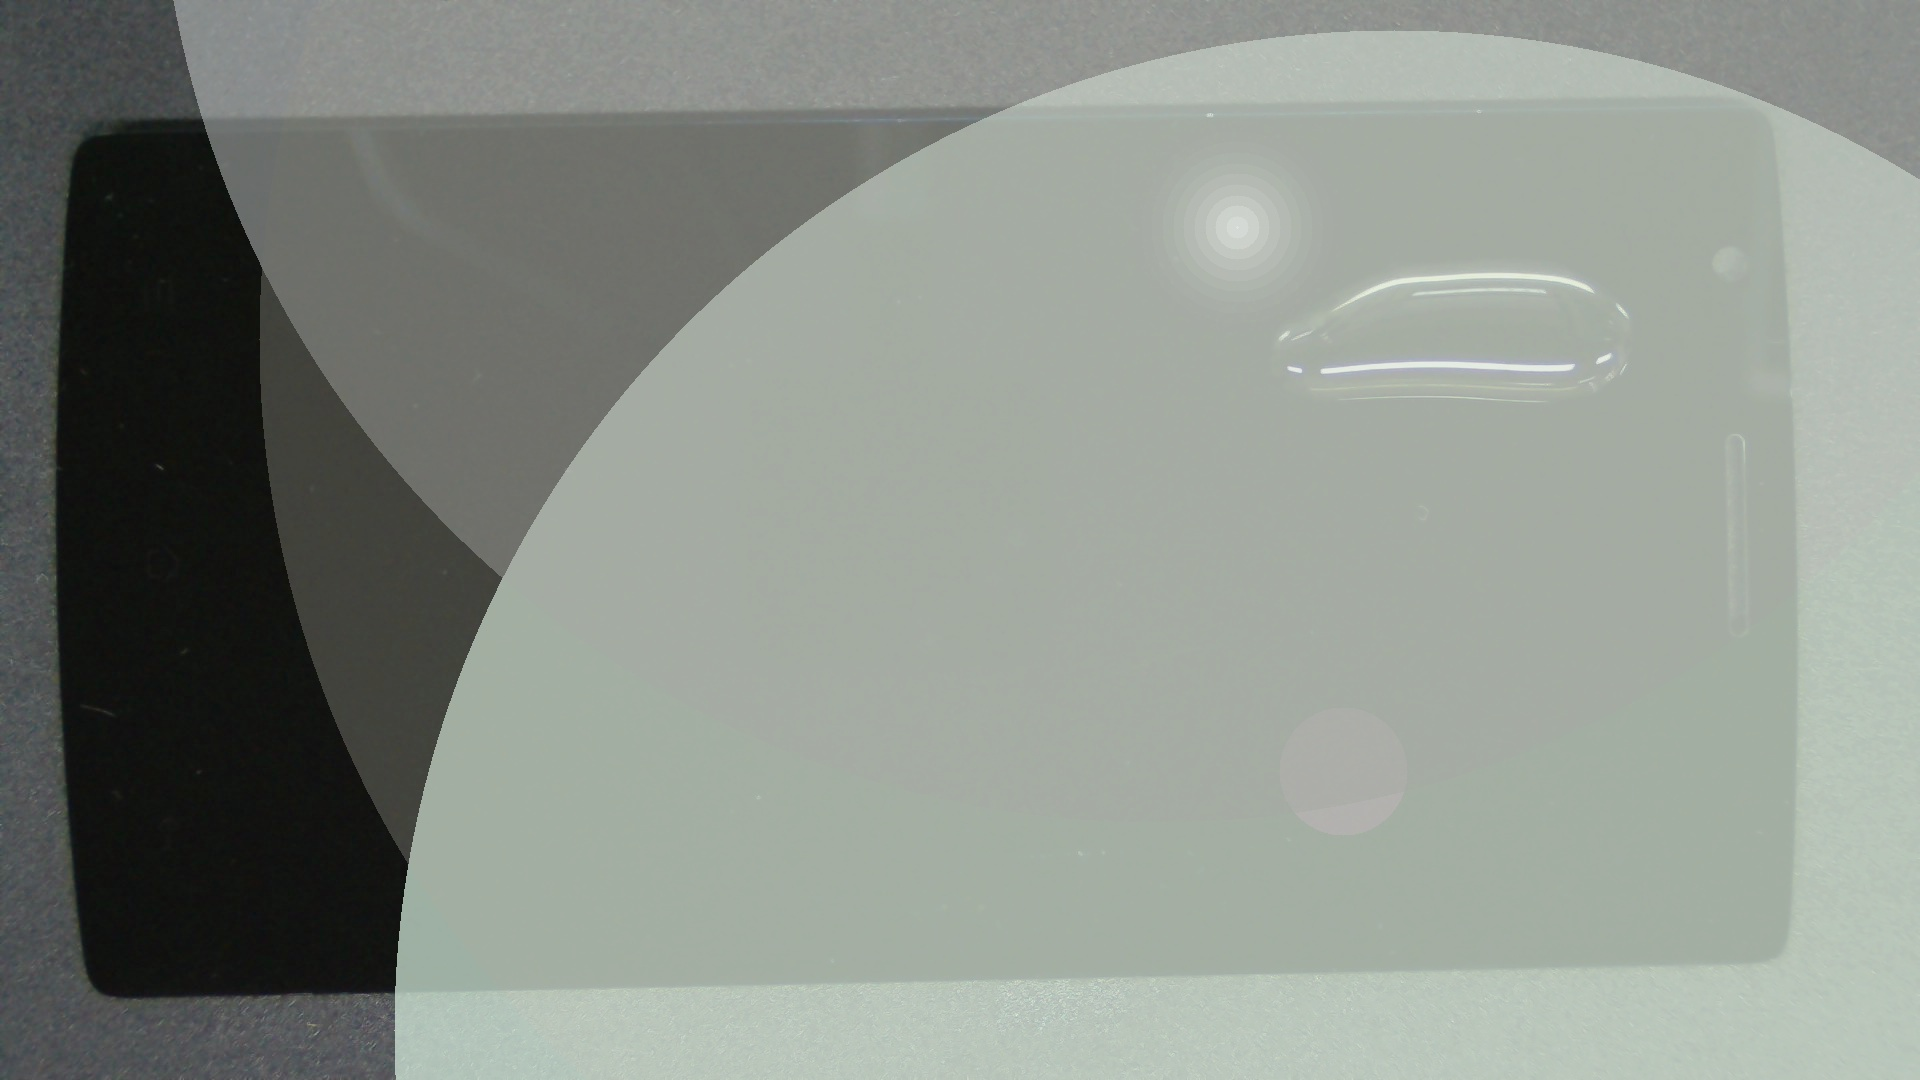oil: (736, 128, 1920, 388)
